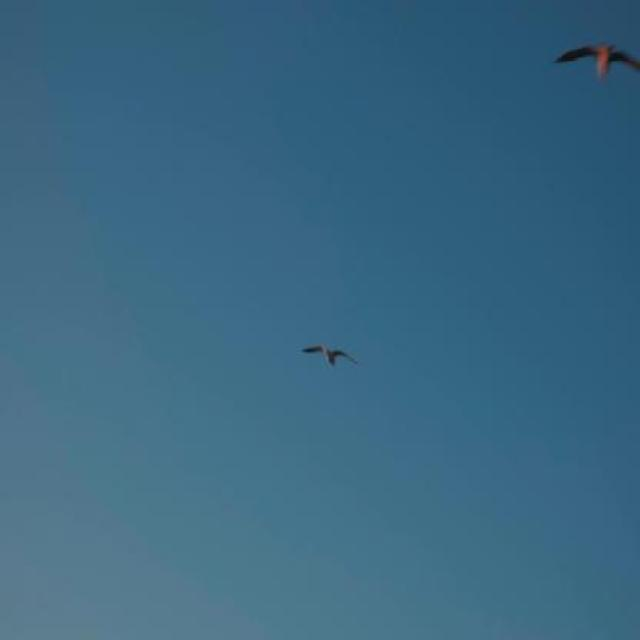bird: (543, 34, 639, 95), (302, 333, 360, 382)
